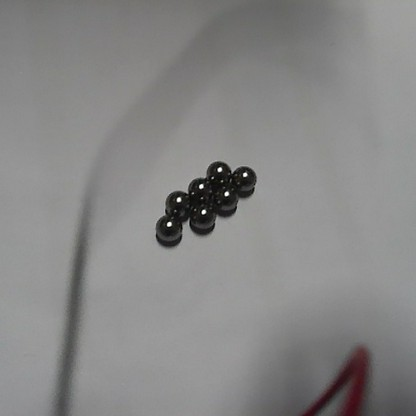ironball: (155, 212, 184, 245), (187, 203, 216, 235), (214, 184, 240, 213), (163, 189, 190, 216), (233, 164, 256, 193), (185, 174, 210, 200), (207, 159, 229, 182)
